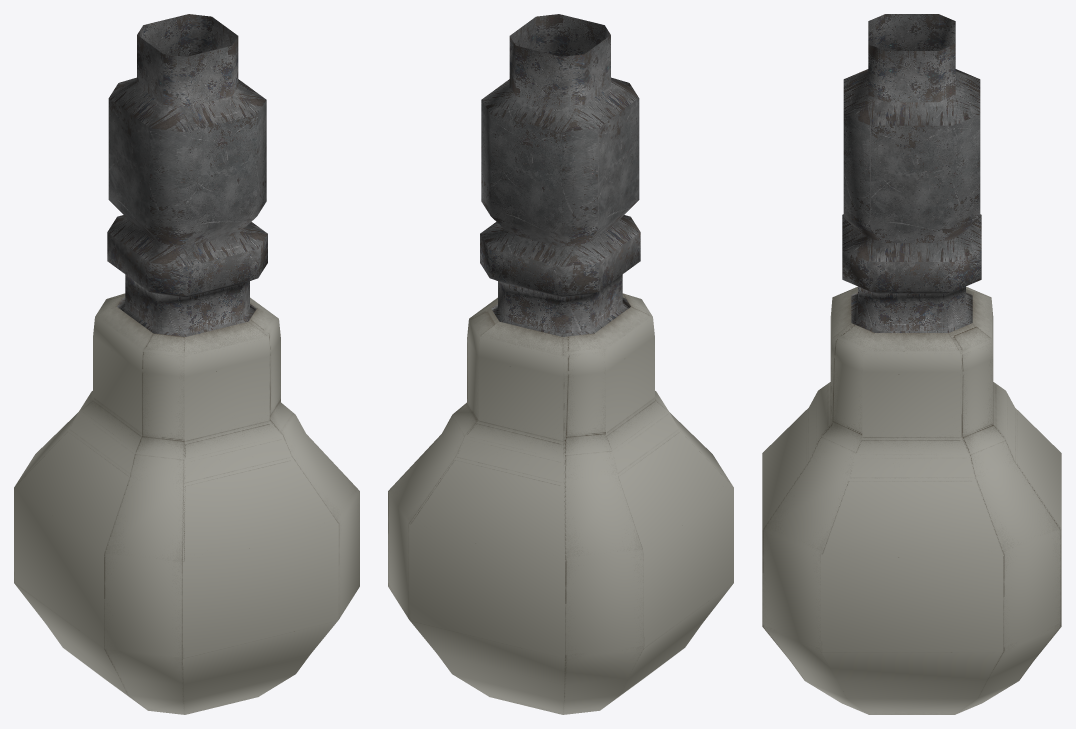
The model's file is lightbulb_final.fbx.
3 renders of one model, left to right at view 1: azimuth 30°, elevation 25°; view 2: azimuth 150°, elevation 25°; view 3: azimuth 270°, elevation 25°, orthographic.
Parts seen in each view (by area): view 1: glass_lightbulb, metallic_lightbulb; view 2: glass_lightbulb, metallic_lightbulb; view 3: glass_lightbulb, metallic_lightbulb.
Part boxes in pixels (x1,y1,x2,y2): glass_lightbulb: [14, 293, 359, 714]; metallic_lightbulb: [107, 14, 267, 336]; glass_lightbulb: [388, 293, 733, 714]; metallic_lightbulb: [480, 14, 640, 336]; glass_lightbulb: [762, 286, 1061, 714]; metallic_lightbulb: [842, 14, 981, 332].
Size of the model in its own units: 3.42 by 8.23 by 3.42.
1 material, 1 textured.
